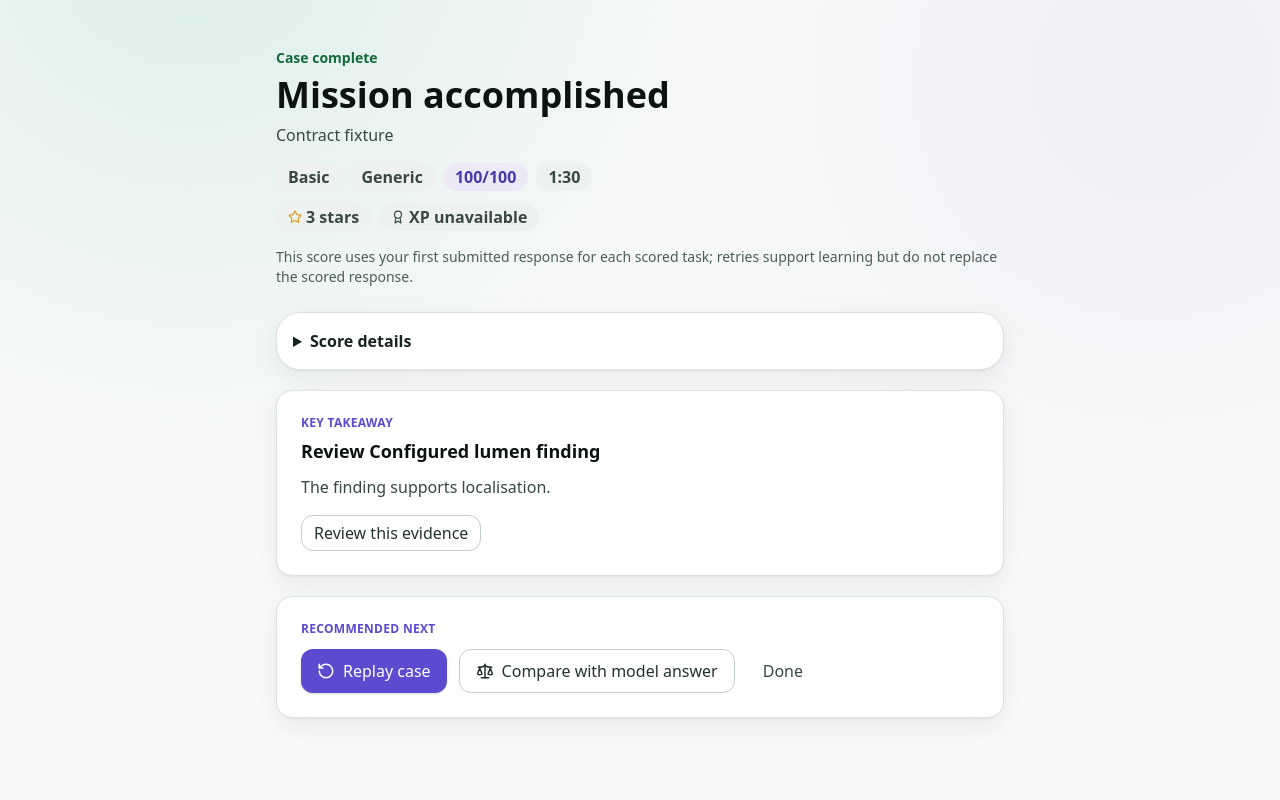
case results › shows configured finding details in the evidence review sheet
Click the button "Review this evidence".
click(391, 533)  # box [301,515,481,551]
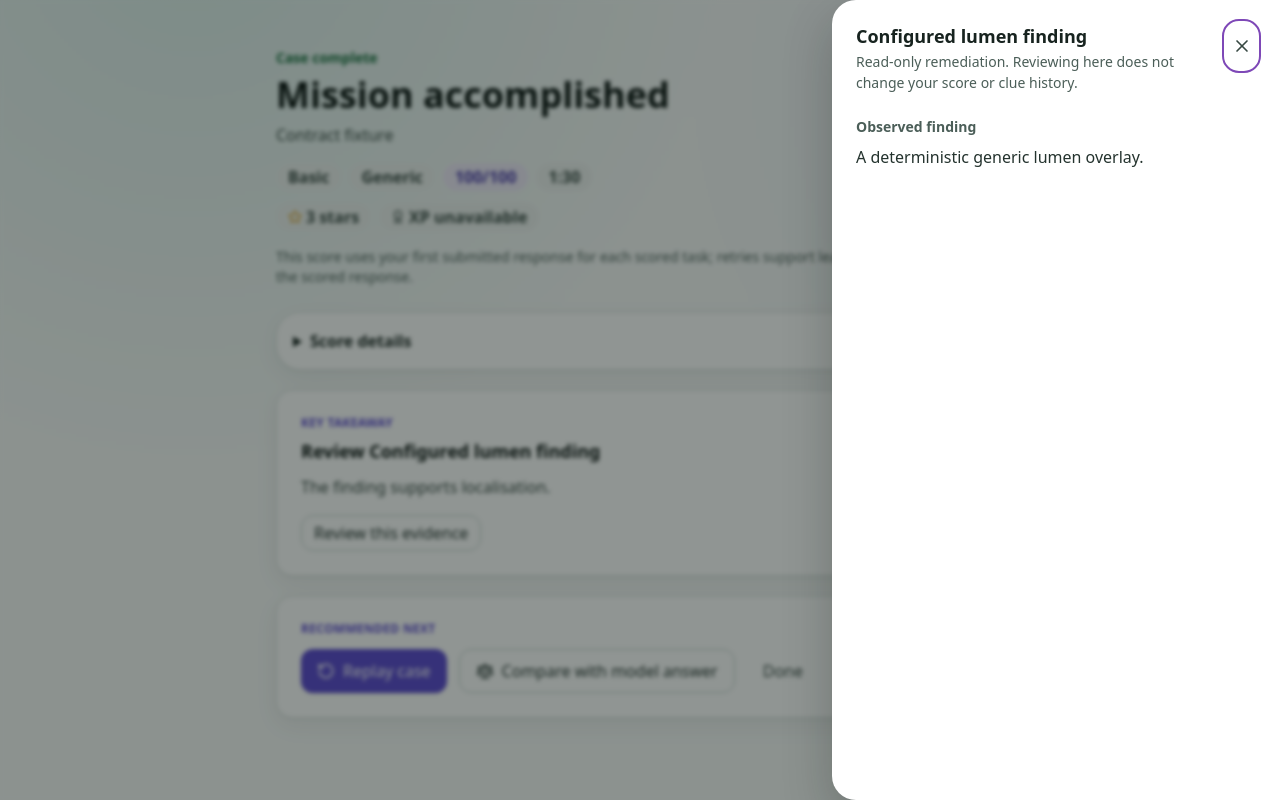
expect the dialog "Configured lumen finding" shows "A deterministic generic lumen overlay.": met, box [856,146,1144,168]
